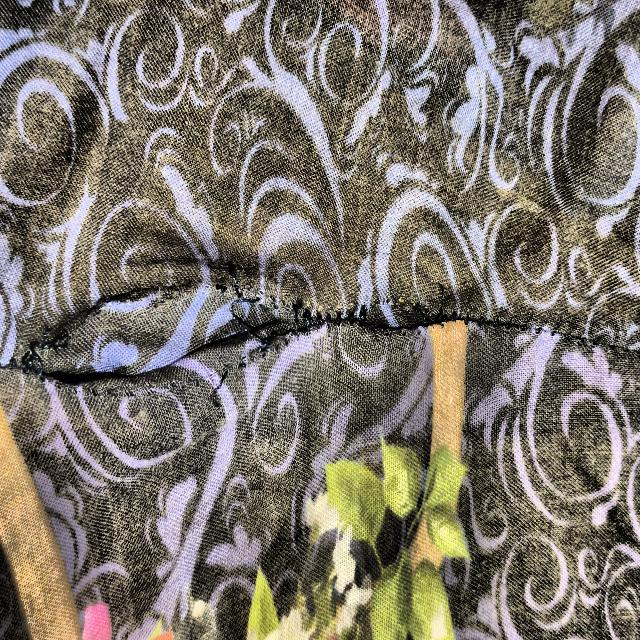seam: (5, 255, 499, 423)
